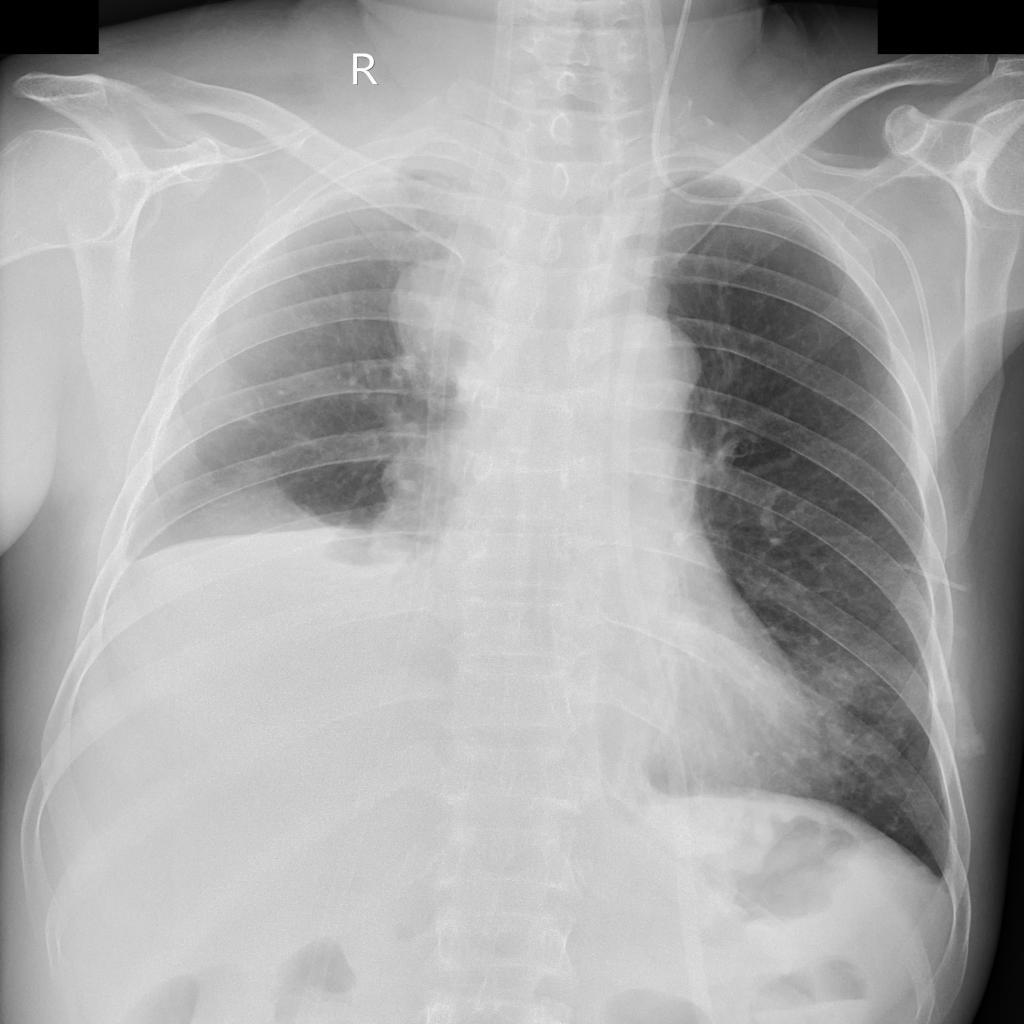Nodule: (389, 260, 505, 388)
